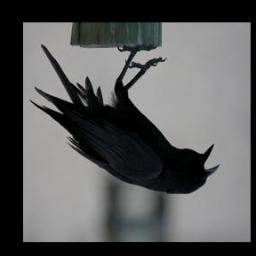Crow: (30, 42, 220, 196)
